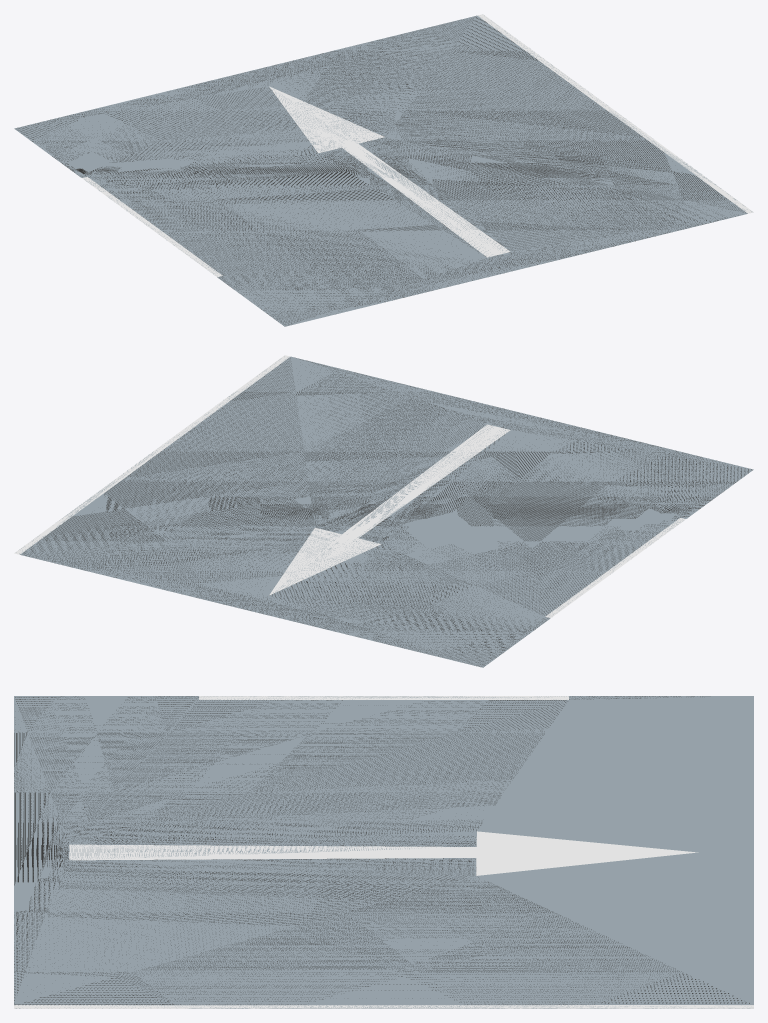
File: lane_divider_arrow.fbx
3 views of the same model, one above another, from view 1: azimuth 30°, elevation 25°; view 2: azimuth 150°, elevation 25°; view 3: azimuth 270°, elevation 25° (orthographic). The views are drawn at different scales.
Visible parts, largest first — view 1: Model; view 2: Model; view 3: Model.
Part boxes in pixels (x1,y1,x2,y2): Model: [14, 14, 753, 326]; Model: [14, 355, 753, 667]; Model: [14, 696, 753, 1008].
Bounding box in the file's own units: 4 × 0 × 4.
